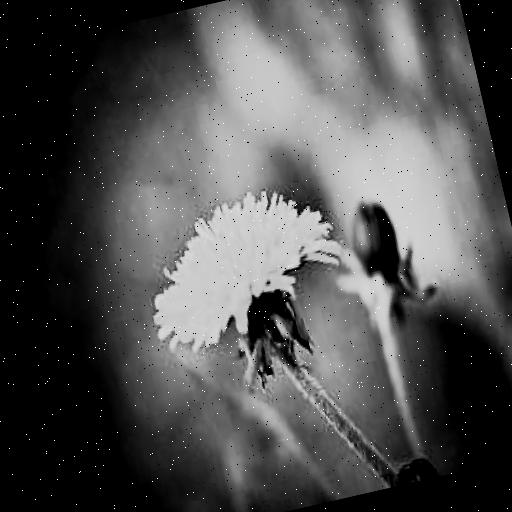dandelion: (125, 150, 352, 353)
